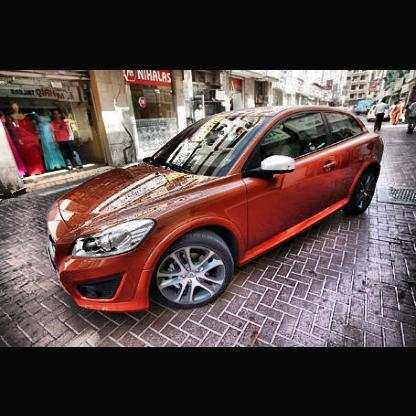Volvo C30 Hatchback 2012: (43, 106, 384, 319)
